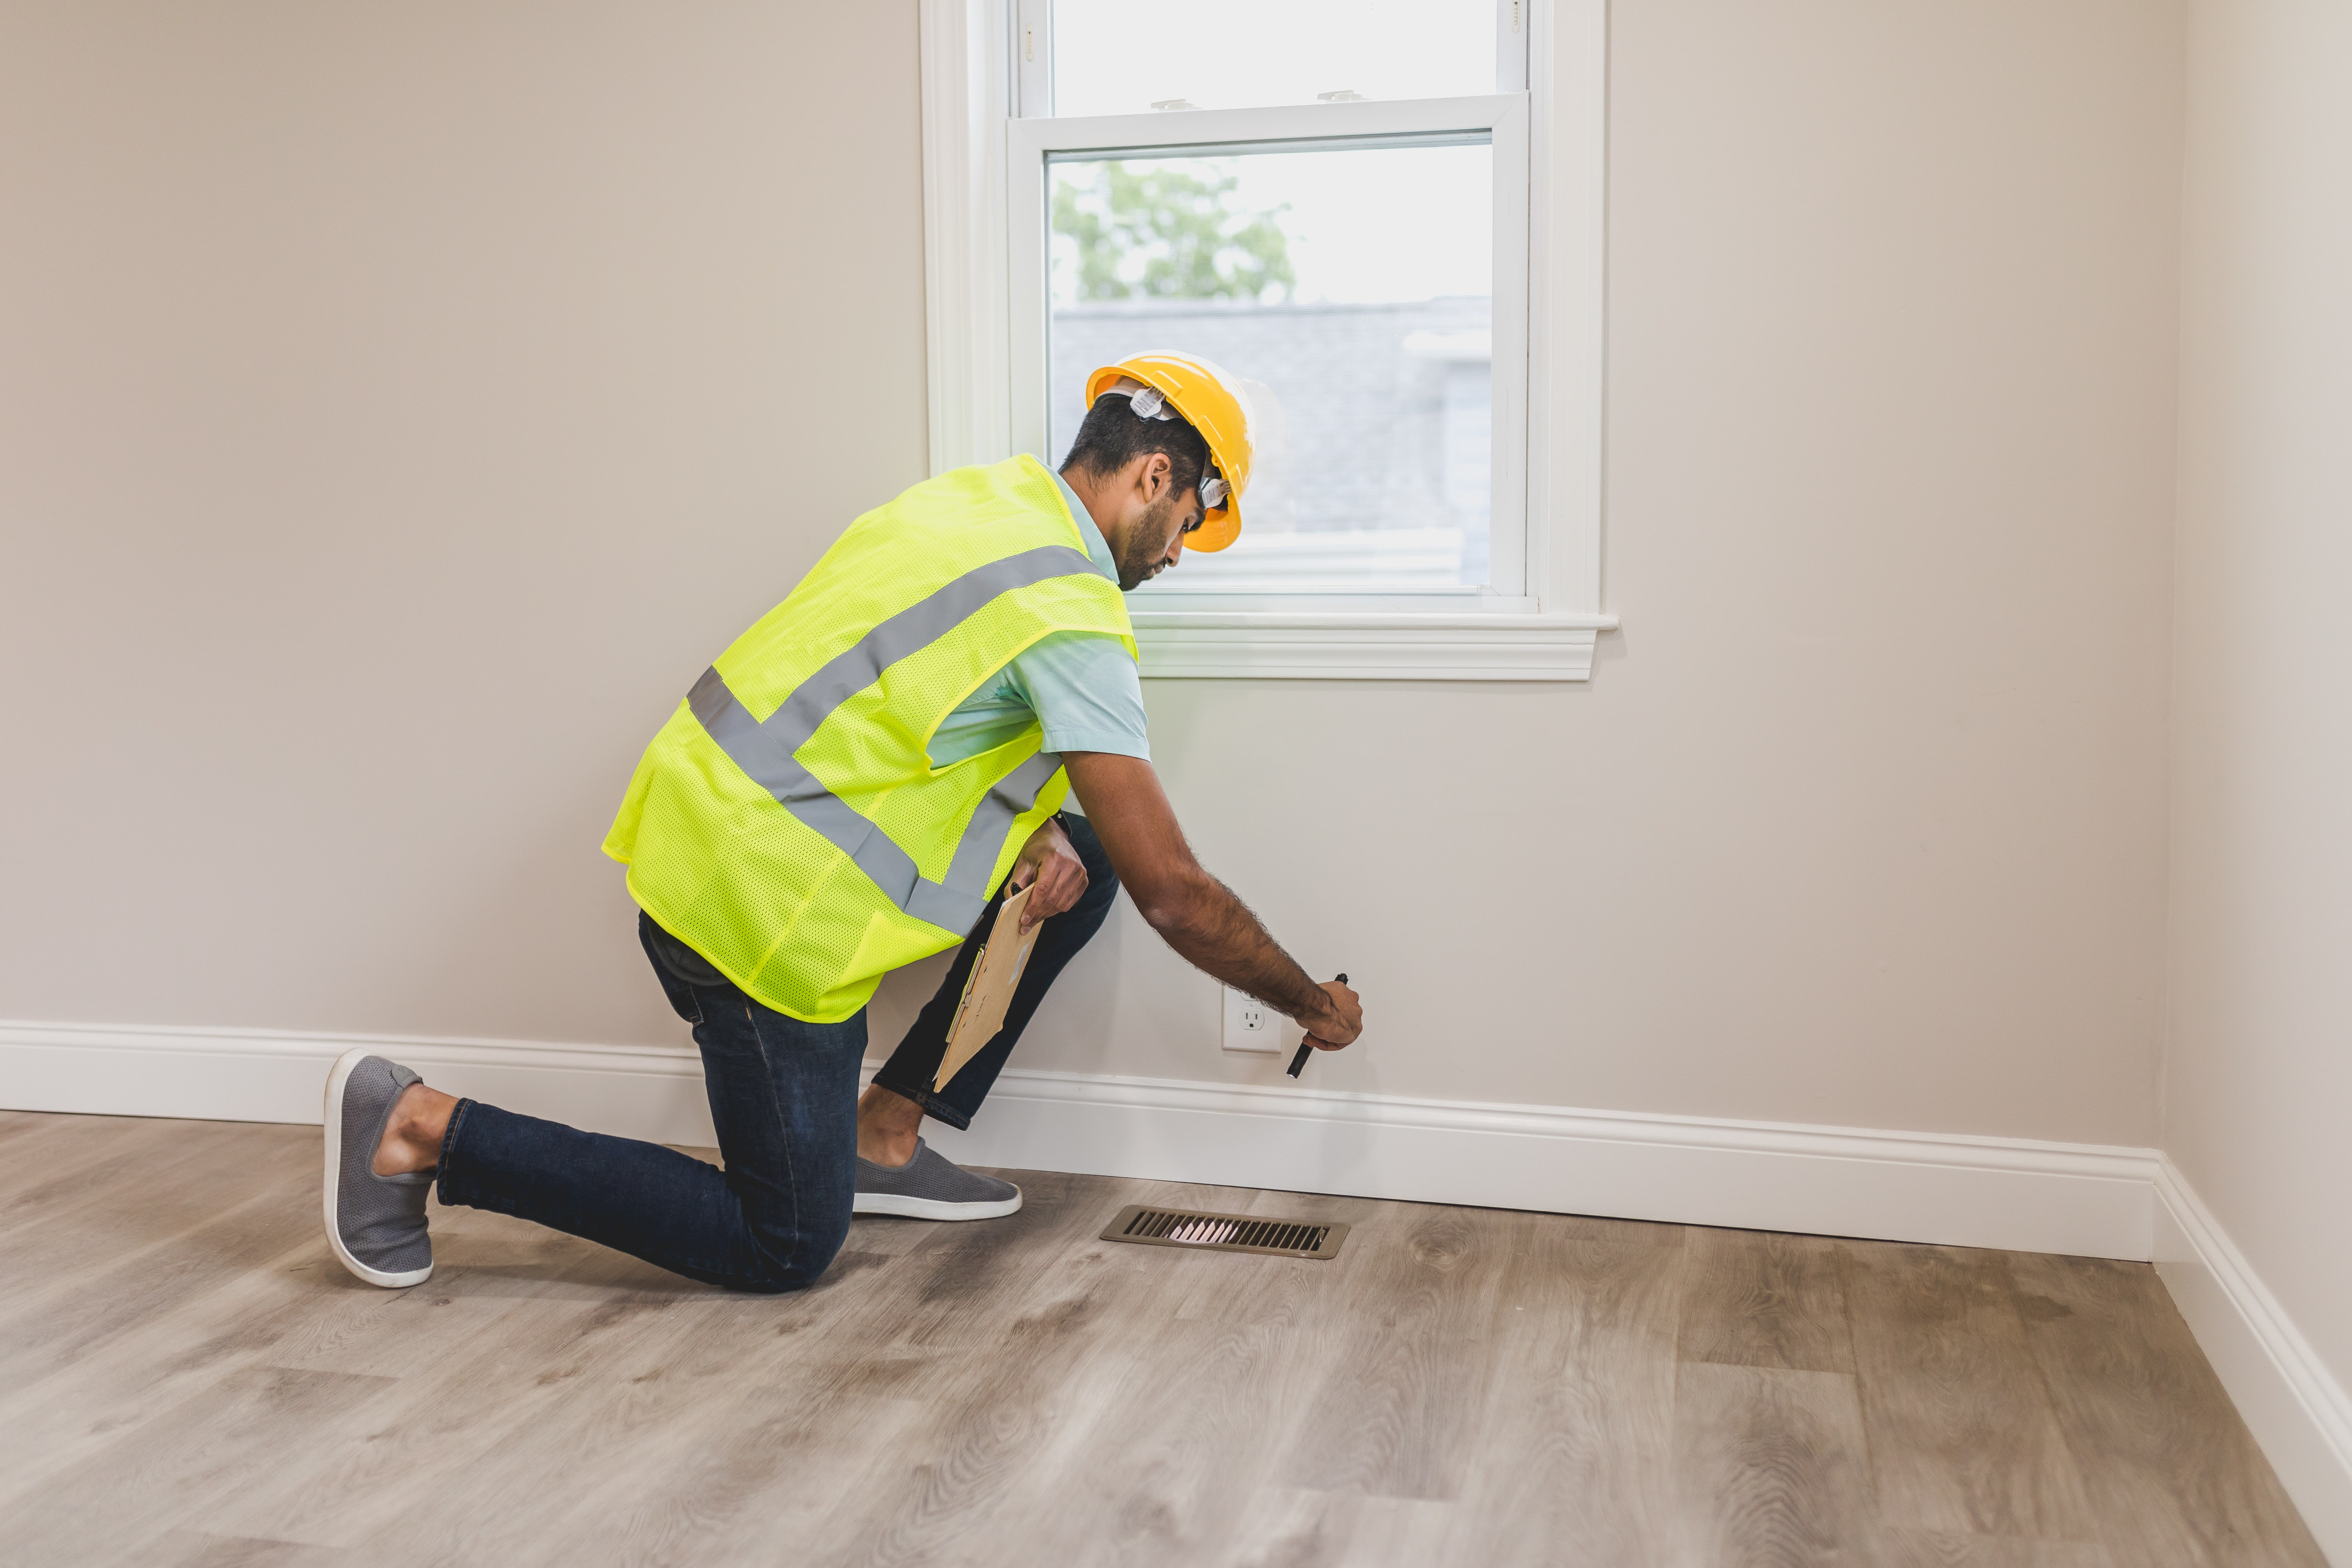Helmet: (1074, 336, 1276, 569)
Reflective vest: (586, 451, 1162, 1036)
